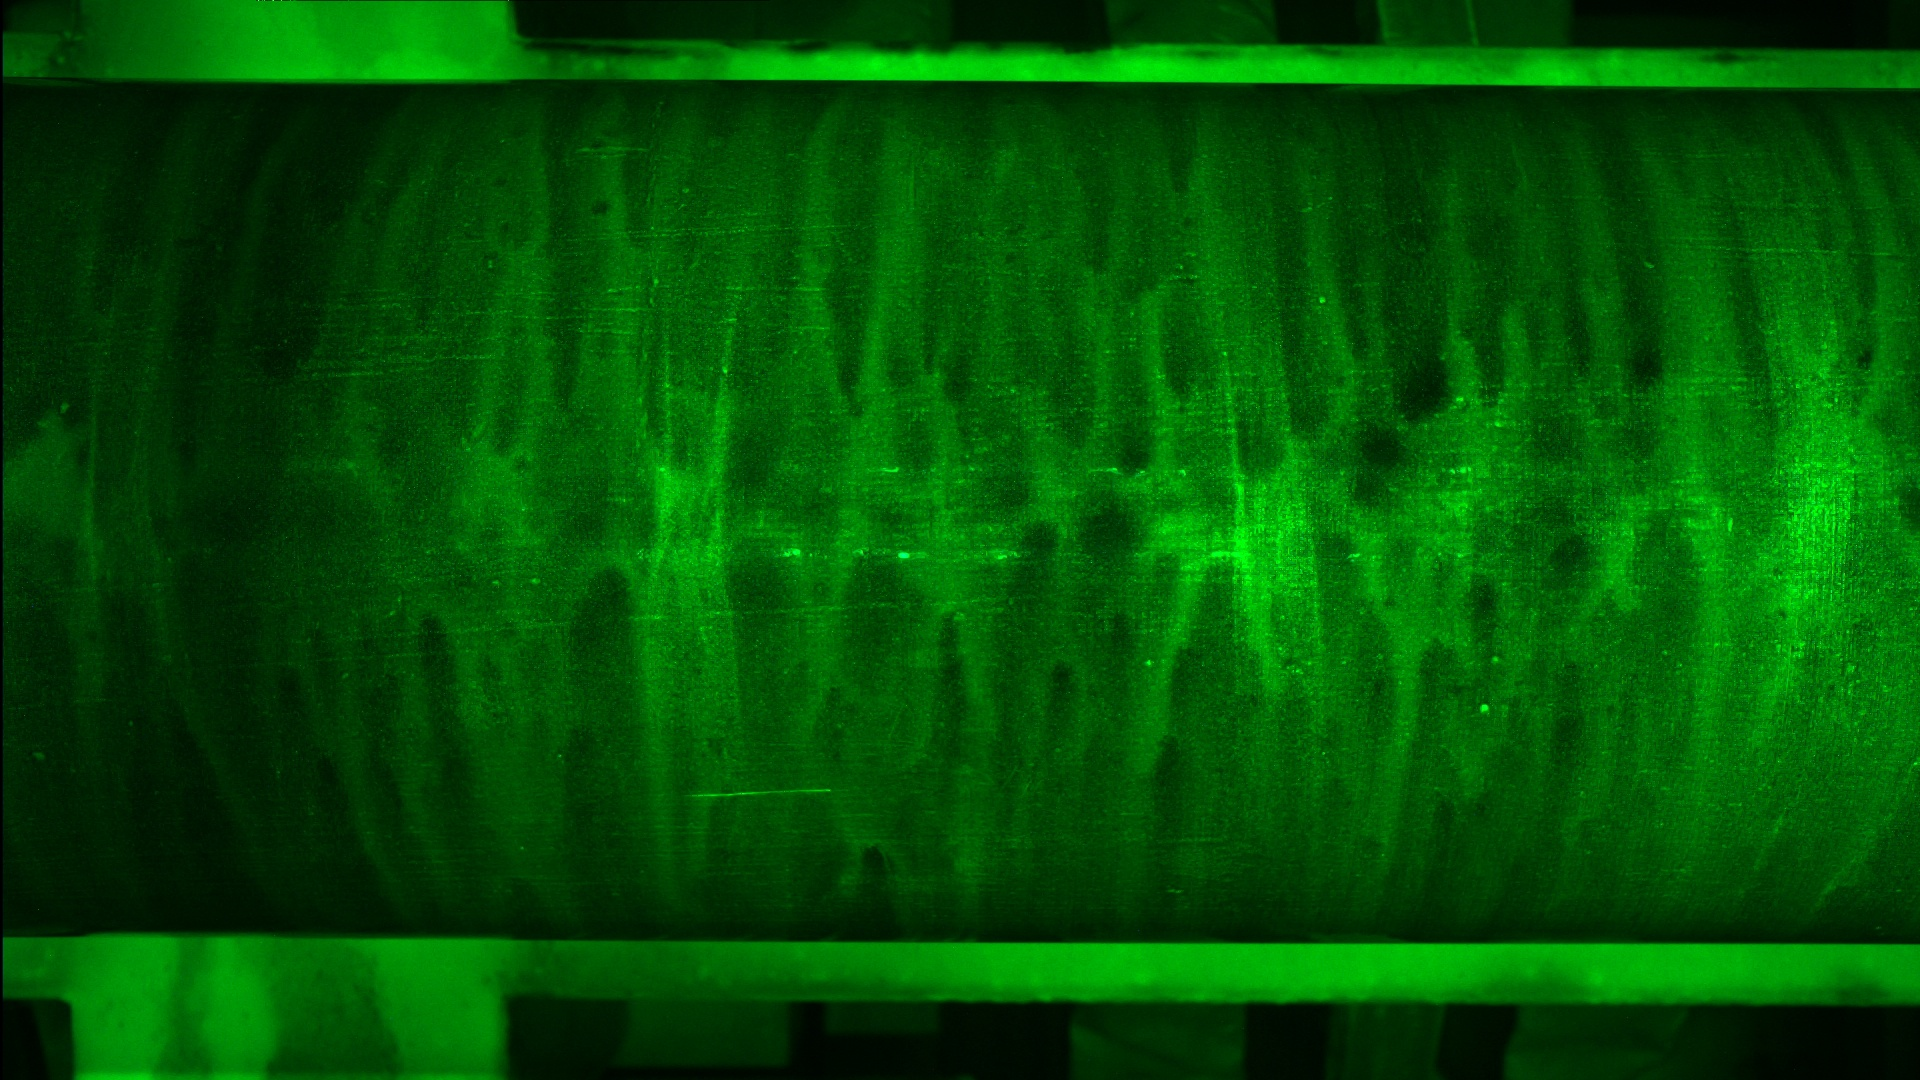flaw: (676, 781, 839, 802)
